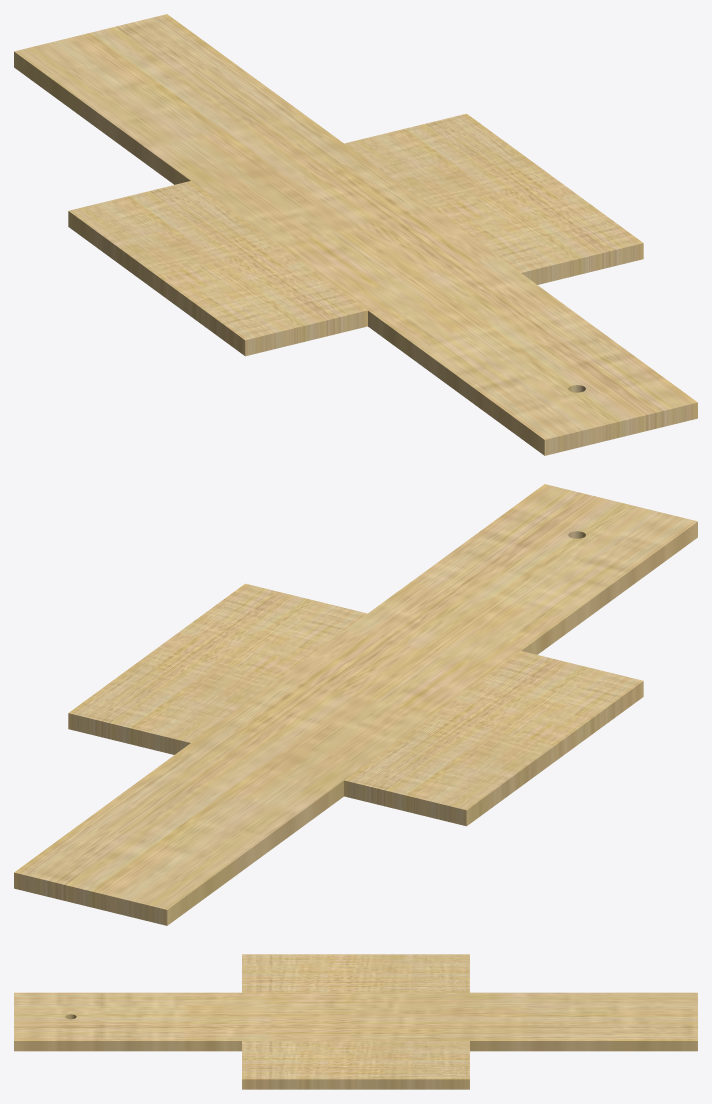
File: Hole2Revised.obj
3 renders of one model, top to bottom at view 1: azimuth 30°, elevation 25°; view 2: azimuth 150°, elevation 25°; view 3: azimuth 270°, elevation 25°, orthographic. The views are drawn at different scales.
Parts seen in each view (by area): view 1: Object.3, Object.2, Object.1; view 2: Object.3, Object.2, Object.1; view 3: Object.3, Object.1, Object.2.
Part boxes in pixels (x1,y1,x2,y2): Object.3: (14,14,697,455); Object.2: (68,181,367,356); Object.1: (344,113,643,284); Object.3: (14,484,697,925); Object.2: (344,651,643,826); Object.1: (68,583,367,754); Object.3: (14,992,697,1051); Object.1: (242,1041,469,1089); Object.2: (242,954,469,992).
Bounding box in the file's own units: 26 × 1 × 60.
Materials: 1 (1 with a texture image).
